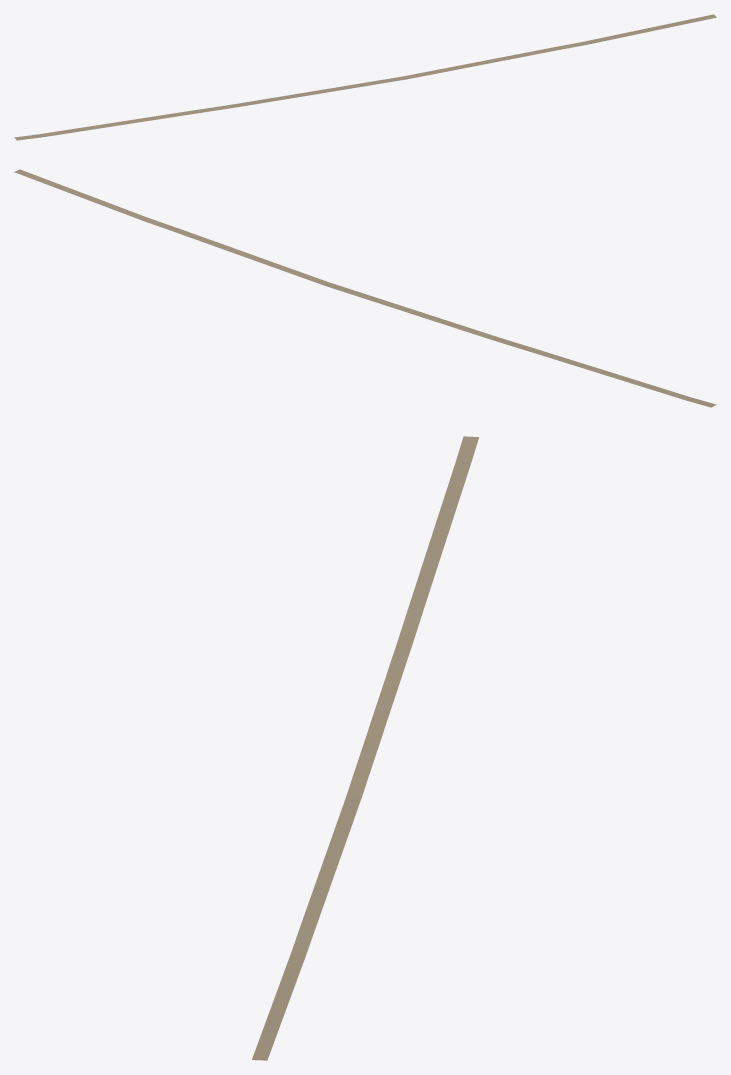
The model's file is farm_18_23_track.glb.
3 renders of one model, top to bottom at view 1: azimuth 30°, elevation 25°; view 2: azimuth 150°, elevation 25°; view 3: azimuth 270°, elevation 25°, orthographic. The views are drawn at different scales.
Visible parts, largest first — view 1: geometry_0; view 2: geometry_0; view 3: geometry_0.
Part boxes in pixels (left/top/right/bottom): geometry_0: left=14, top=14, right=716, bottom=140; geometry_0: left=14, top=169, right=716, bottom=407; geometry_0: left=252, top=436, right=478, bottom=1060.
Bounding box in the file's own units: 310 × 4.22 × 47.09.
